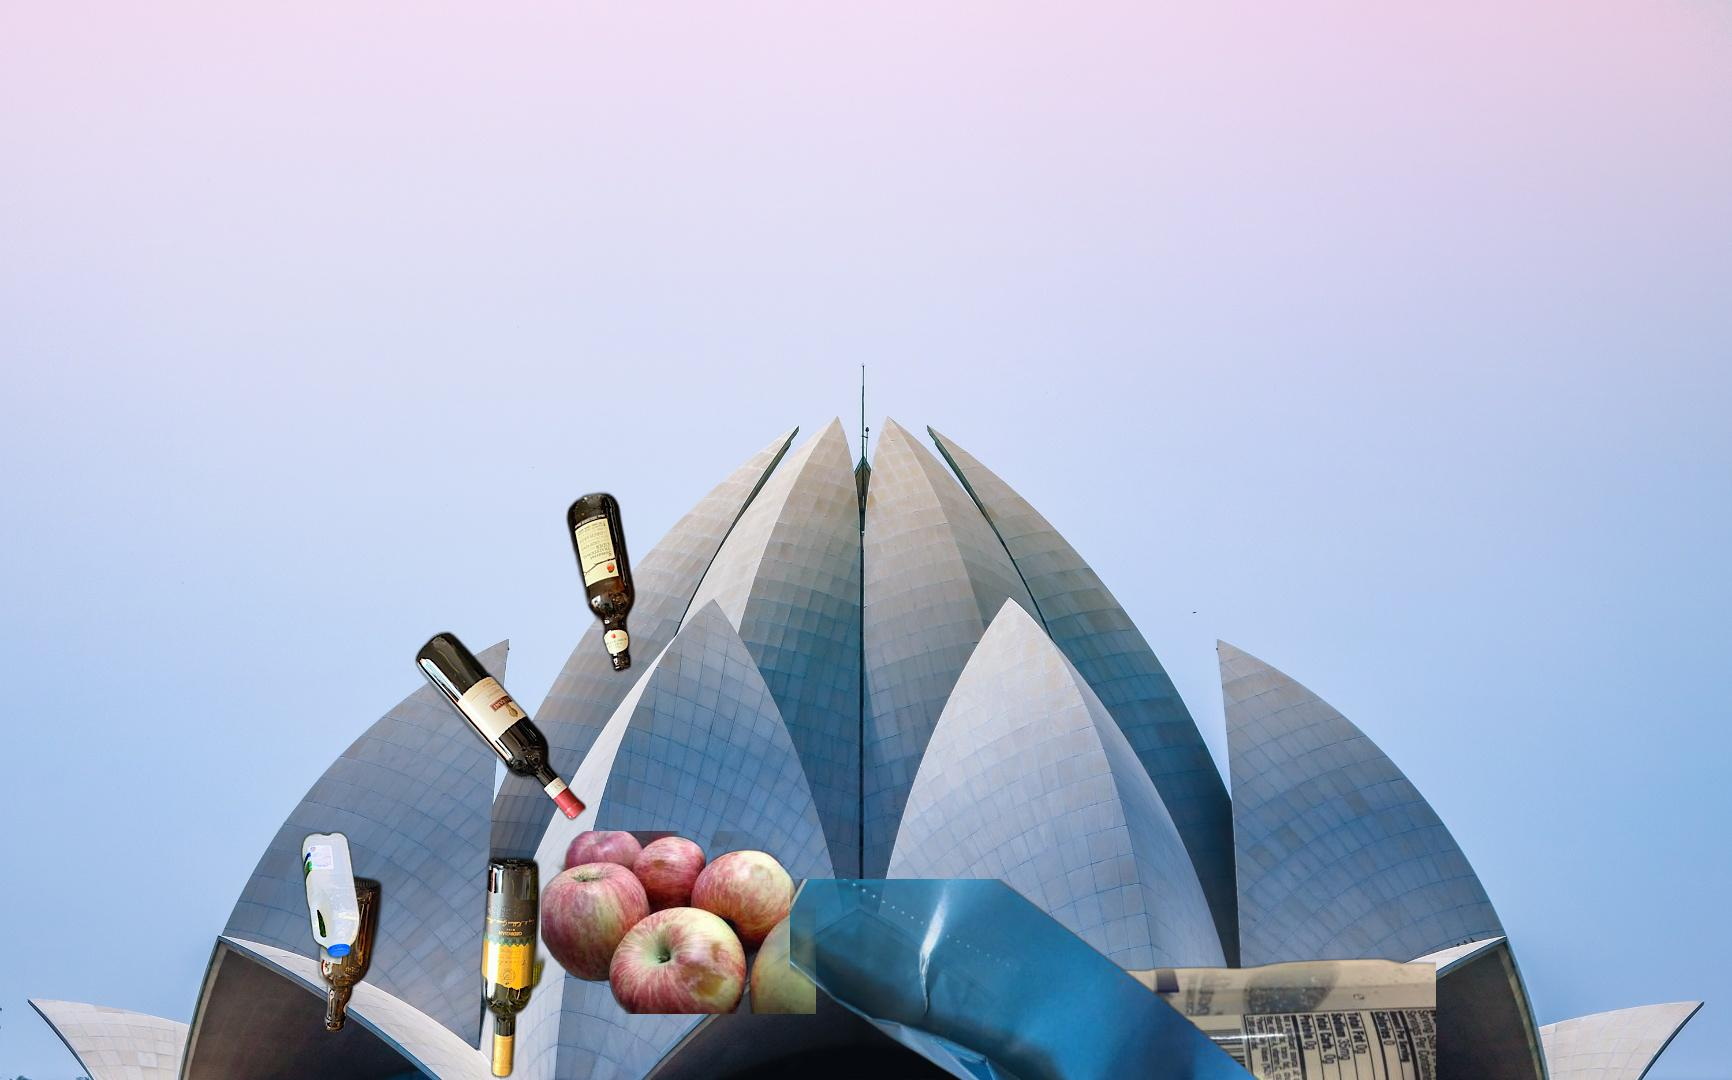biological: (541, 831, 816, 1014)
glass: (314, 486, 640, 1080)
metal-cans: (1599, 114, 1732, 589)
paper: (790, 878, 1301, 1080)
plastic-bottles: (972, 956, 1436, 1080), (297, 826, 365, 964)
